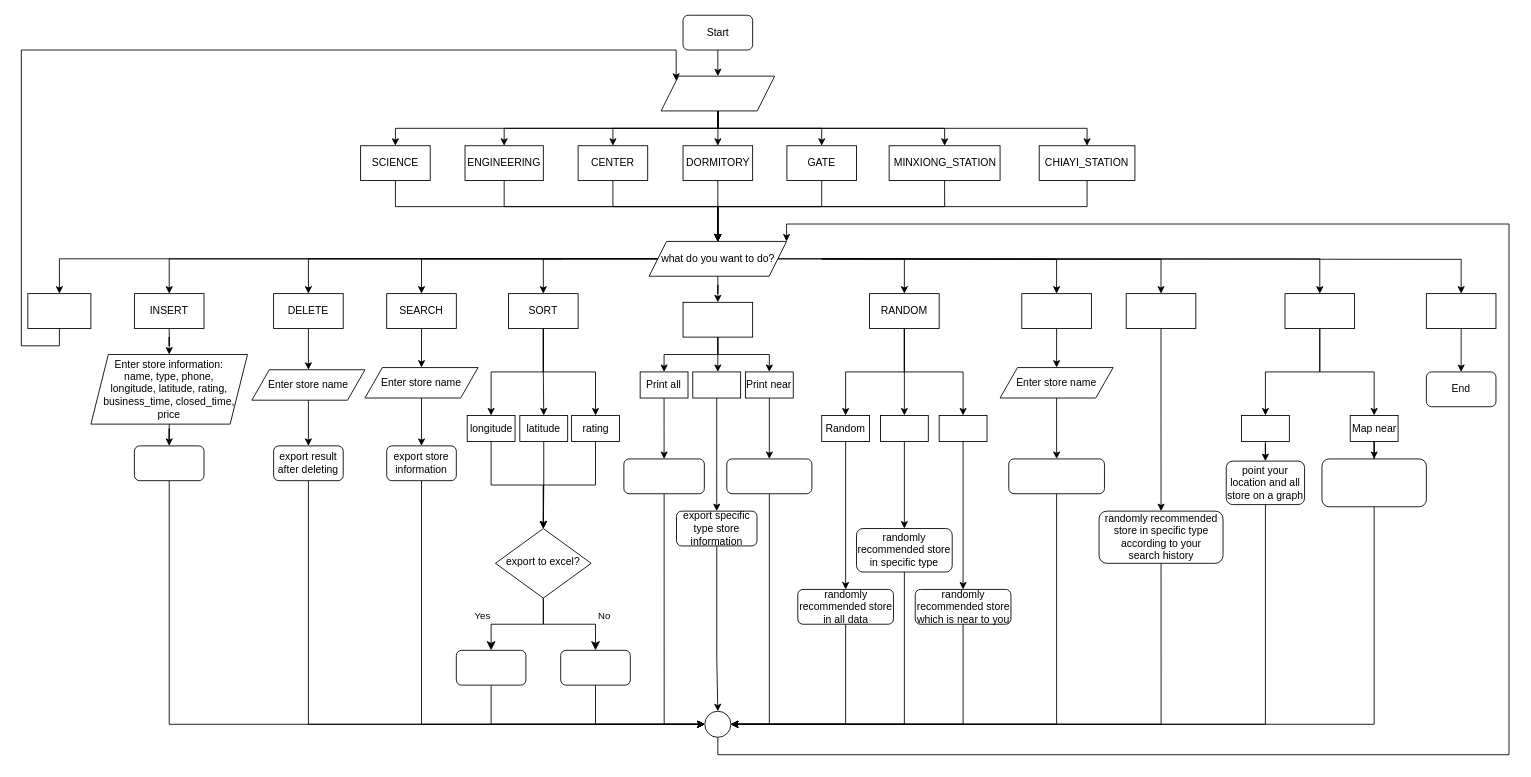
Image size: 1531x777. Some labels were removed from this diagram. Each missing label, with the centre of its shape:
compute the distance between the store and you: point (1056, 476)
DISTANCE: point (1056, 310)
export all store information: point (663, 476)
export result: point (595, 667)
export result after adding: point (169, 463)
export result via excel: point (490, 667)
export store information which near to you: point (769, 476)
LOCATE: point (59, 310)
MAP: point (1319, 310)
Map all: point (1265, 428)
MY_HABIT: point (1160, 310)
point your location and stores those near to you on a graph: point (1373, 482)
PRINT: point (717, 319)
Print type: point (716, 384)
Random near: point (962, 428)
Random type: point (904, 428)
STOP: point (1460, 310)
Where are you?: point (717, 93)
